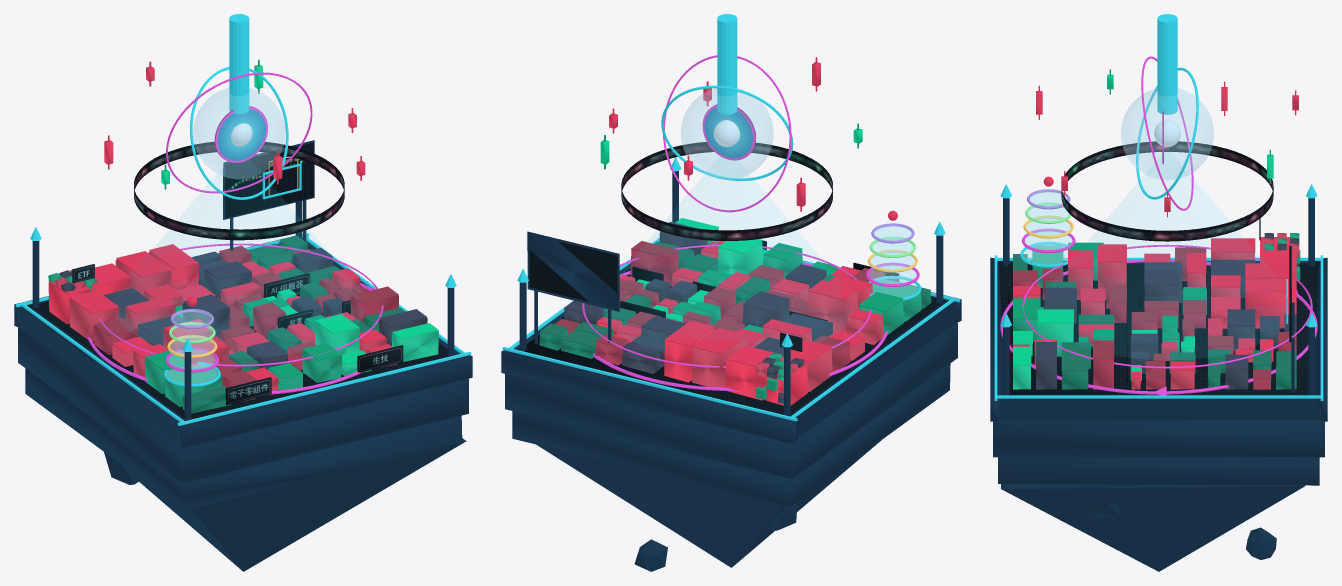
The model's file is lplc.glb.
3 views of the same model, side by side, from view 1: azimuth 30°, elevation 25°; view 2: azimuth 150°, elevation 25°; view 3: azimuth 270°, elevation 25° (orthographic).
Parts seen in each view (by area): view 1: terrain_frame, eye_glass.001, ticker_ticker, fx_kline_pattern, terrain_techfloor, terrain_neon_c, fx_sector0_heat_up2, fx_sector0_cap_up2, fx_sector5_heat_dn3, fxhide_holo_neon_c, iris_iris, fx_sector0_heat_up3 (+28 smaller); view 2: terrain_frame, eye_glass.001, ticker_ticker, terrain_techfloor, fx_kline_frame, fx_sector0_heat_up3, terrain_neon_c, fx_sector0_heat_up2, fx_sector4_heat_up2, fx_kline_pattern, fx_sector0_cap_up2, fxhide_holo_neon_c (+28 smaller); view 3: terrain_frame, terrain_techfloor, eye_glass.001, ticker_ticker, terrain_neon_c, fx_sector0_cap_up2, fxhide_holo_neon_c, fx_sector0_cap_up3, fx_sector4_cap_up2, fx_sector4_heat_up2, fx_sector0_cap_flat, fx_sector0_heat_up3 (+33 smaller).
Part boxes in pixels (x1,y1,x2,y2): terrain_frame: (14,201,472,571); eye_glass.001: (193,88,285,178); ticker_ticker: (134,141,344,240); fx_kline_pattern: (225,143,313,217); terrain_techfloor: (27,247,454,420); terrain_neon_c: (15,227,471,425); fx_sector0_heat_up2: (69,260,182,366); fx_sector0_cap_up2: (69,251,181,353); fx_sector5_heat_dn3: (314,322,438,375); fxhide_holo_neon_c: (229,14,249,114); iris_iris: (214,106,267,162); fx_sector0_heat_up3: (48,251,215,324); terrain_frame: (501,171,961,571); eye_glass.001: (681,88,773,179); ticker_ticker: (621,142,832,240); terrain_techfloor: (519,268,947,416); fx_kline_frame: (527,231,619,344); fx_sector0_heat_up3: (664,328,807,405); terrain_neon_c: (502,157,960,421); fx_sector0_heat_up2: (692,327,864,391); fx_sector4_heat_up2: (771,285,883,344); fx_kline_pattern: (529,241,617,301); fx_sector0_cap_up2: (692,319,865,363); fxhide_holo_neon_c: (717,14,737,114); terrain_frame: (990,198,1327,571); terrain_techfloor: (998,261,1319,395); eye_glass.001: (1121,88,1213,179); ticker_ticker: (1061,141,1273,241); terrain_neon_c: (994,184,1323,400); fx_sector0_cap_up2: (1144,238,1296,287); fxhide_holo_neon_c: (1157,14,1177,114); fx_sector0_cap_up3: (1211,237,1296,312); fx_sector4_cap_up2: (1013,244,1126,302); fx_sector4_heat_up2: (1013,262,1126,314); fx_sector0_cap_flat: (1144,259,1255,285); fx_sector0_heat_up3: (1211,292,1296,328).
Bounding box in the file's own units: 4 × 7.2 × 3.98.
Materials: 18 (18 with a texture image).
